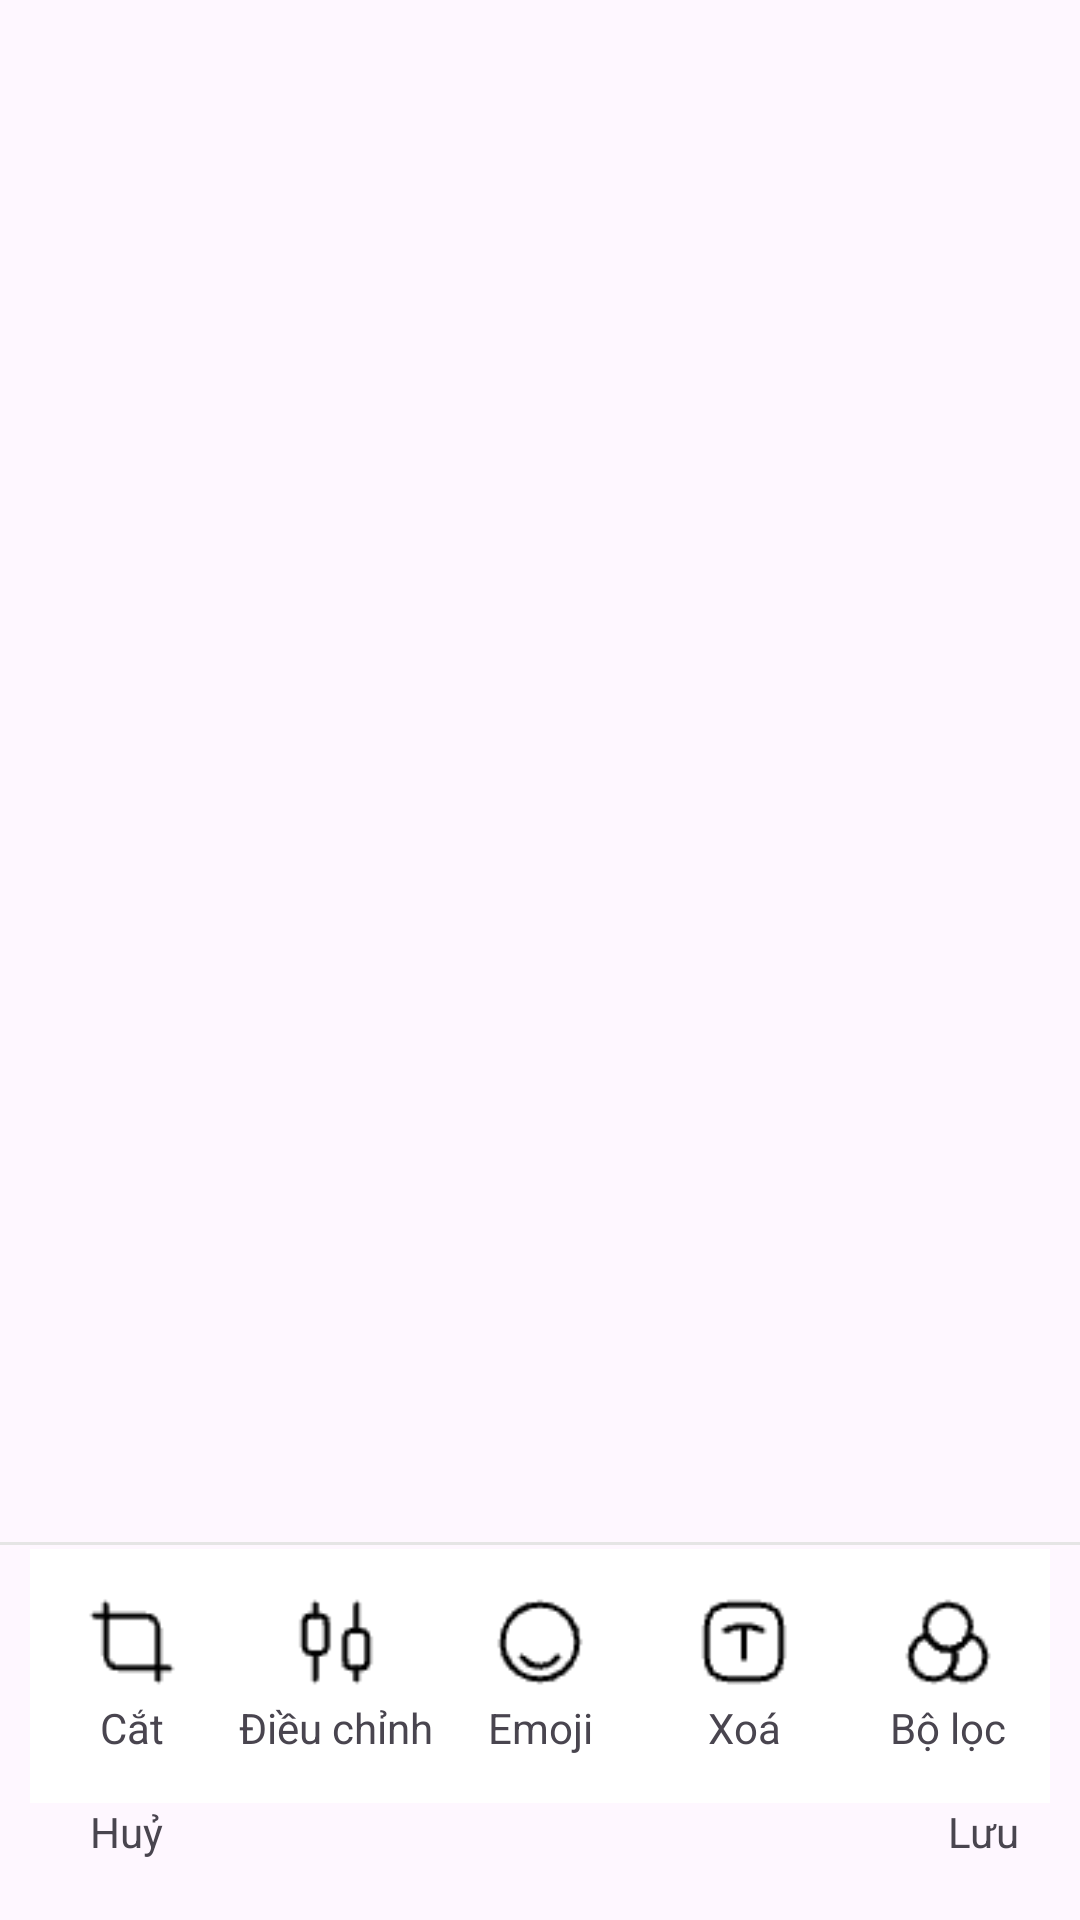

Icons on this 1080px x 1920px Android screen, each with its box as (x1, y1, x2, y2):
text block: (701, 1599, 787, 1685)
